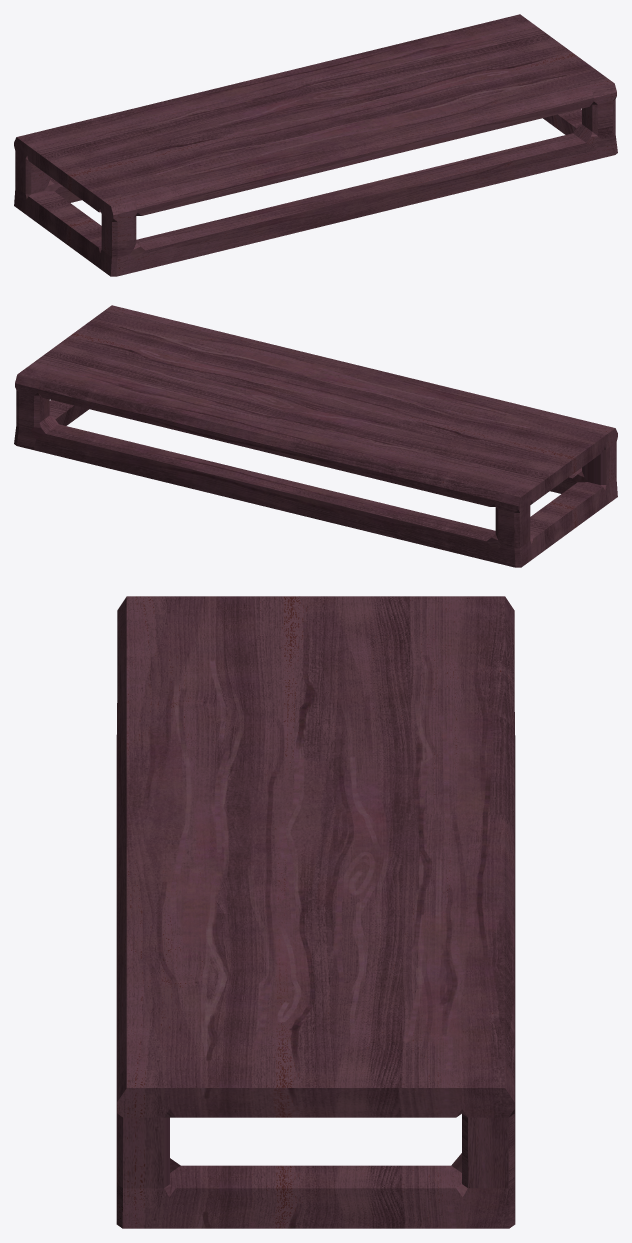
The model's file is Bench 1.fbx.
3 views of the same model, one above another, from view 1: azimuth 30°, elevation 25°; view 2: azimuth 150°, elevation 25°; view 3: azimuth 270°, elevation 25° (orthographic). The views are drawn at different scales.
Visible parts, largest first — view 1: Bench; view 2: Bench; view 3: Bench.
Part boxes in pixels (left/top/right/bottom): Bench: left=14, top=14, right=617, bottom=276; Bench: left=14, top=305, right=617, bottom=567; Bench: left=116, top=596, right=515, bottom=1228.
Bounding box in the file's own units: 179 × 23.35 × 60.88.
